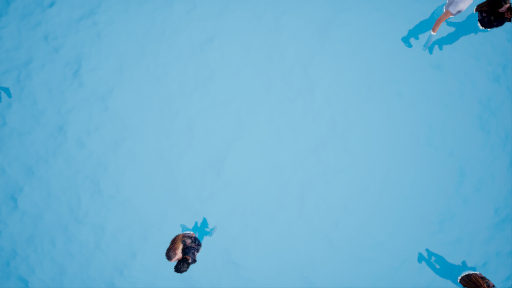person: (416, 1, 512, 63), (157, 217, 225, 274)
